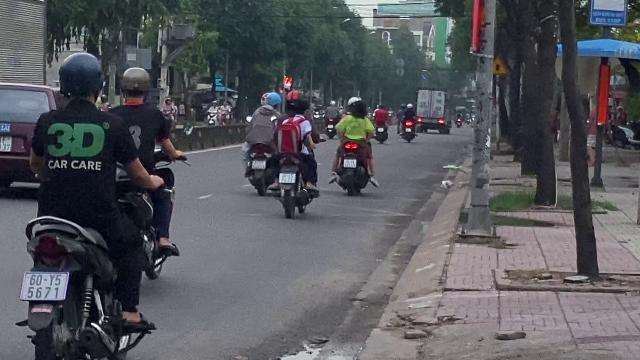helmet: (55, 51, 105, 103), (118, 66, 152, 102), (285, 90, 299, 108)
licenseplate: (21, 272, 68, 300), (279, 173, 295, 183)
motorcyclist: (8, 50, 170, 358), (100, 64, 186, 292), (271, 87, 321, 217)
nohelmet: (292, 100, 310, 118)
